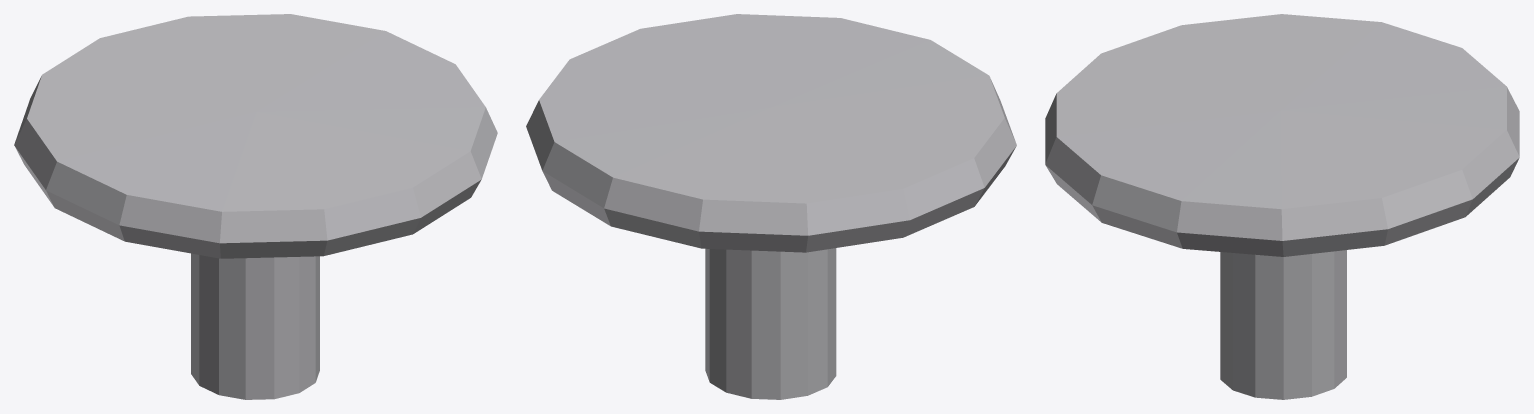
The model's file is Mothership_02_Radar.fbx.
3 views of the same model, side by side, from view 1: azimuth 30°, elevation 25°; view 2: azimuth 150°, elevation 25°; view 3: azimuth 270°, elevation 25° (orthographic).
Parts seen in each view (by area): view 1: Mothership_02_Radar; view 2: Mothership_02_Radar; view 3: Mothership_02_Radar.
Part boxes in pixels (left/top/right/bottom): Mothership_02_Radar: left=14, top=14, right=497, bottom=399; Mothership_02_Radar: left=526, top=14, right=1016, bottom=399; Mothership_02_Radar: left=1045, top=14, right=1519, bottom=399.
Size of the model in its own units: 402 by 242 by 392.
1 material, 1 textured.
